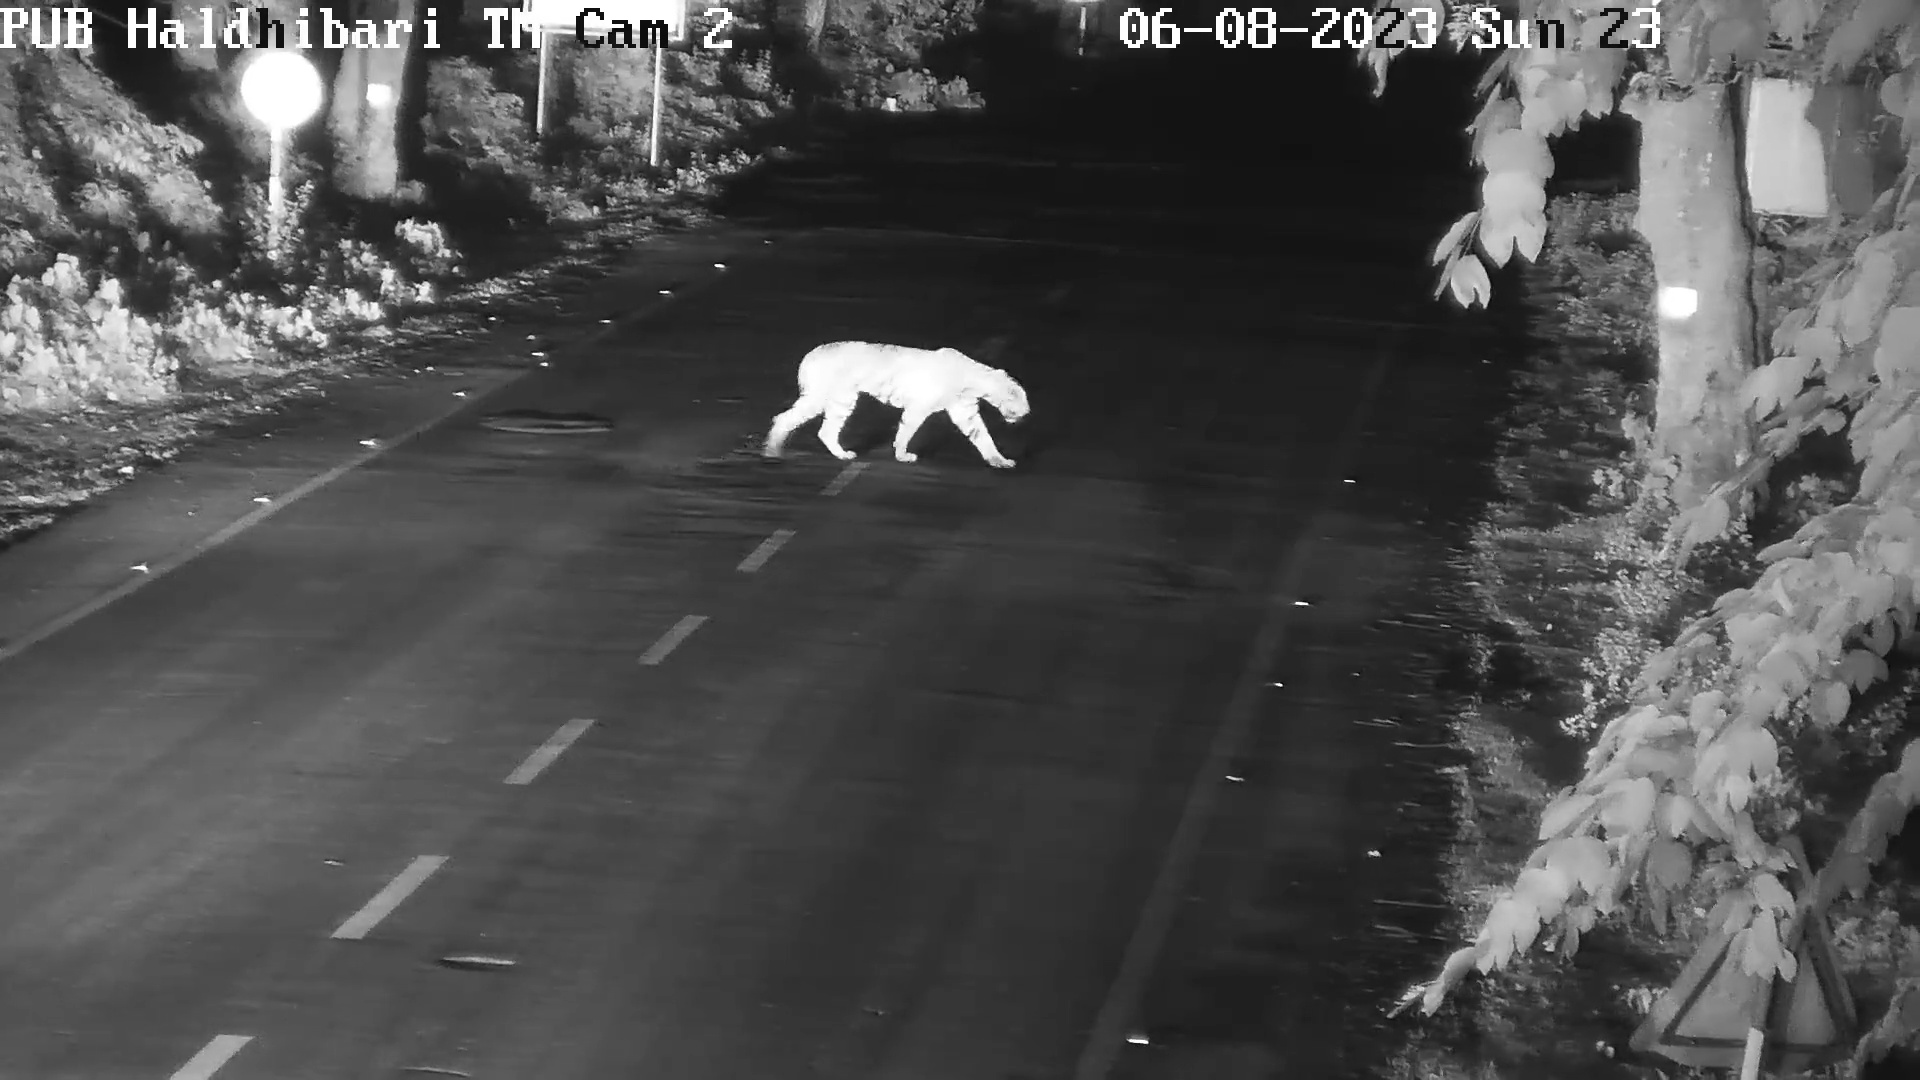tigers: (765, 334, 1033, 472)
